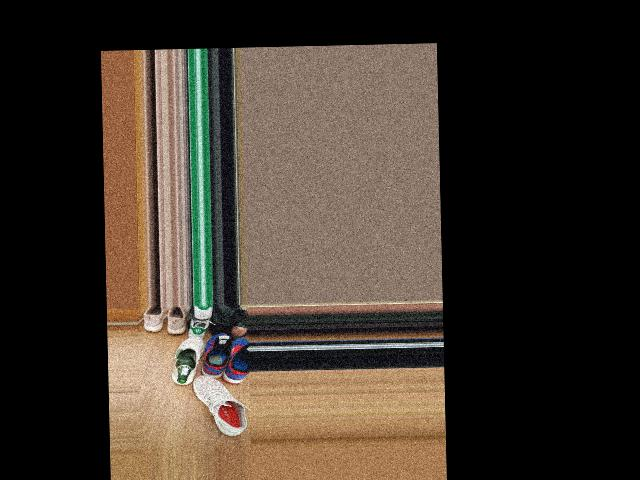beer: (175, 349, 196, 384)
